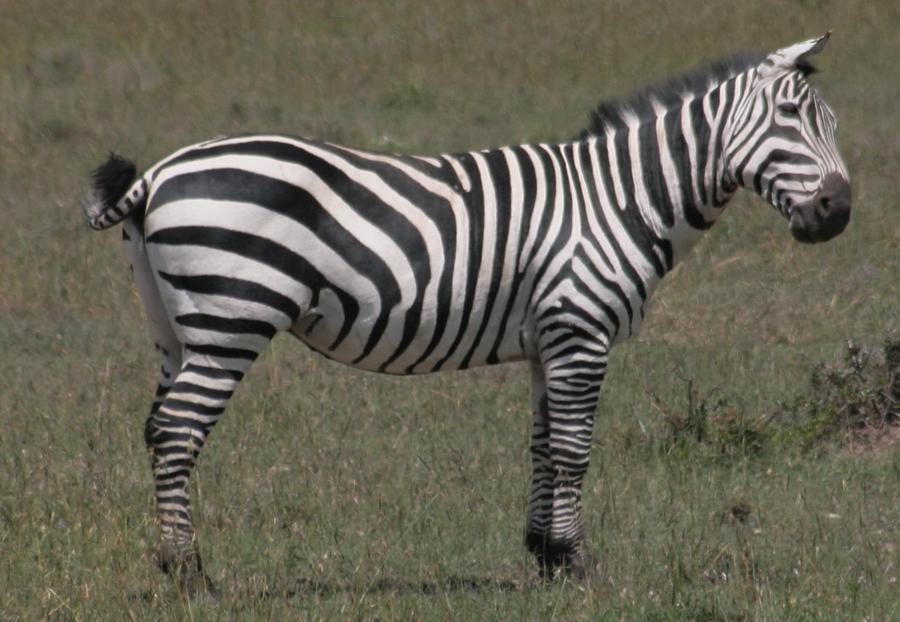zebra_plains: (128, 91, 673, 407)
